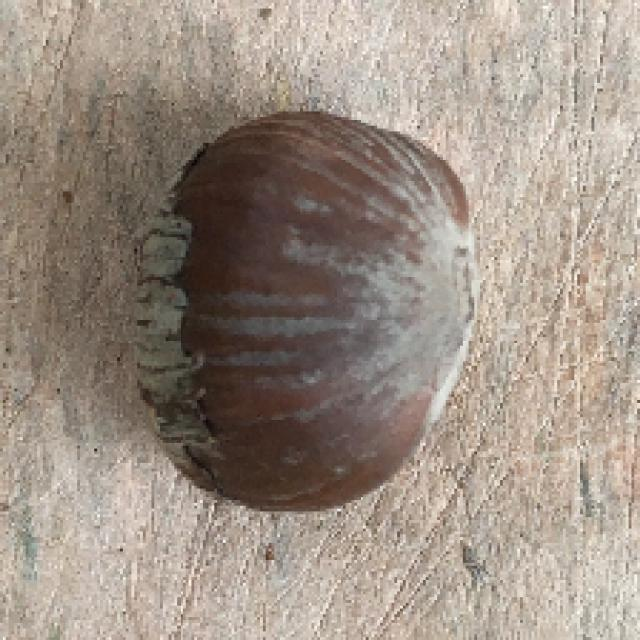damagedHazelnut: (124, 106, 481, 518)
